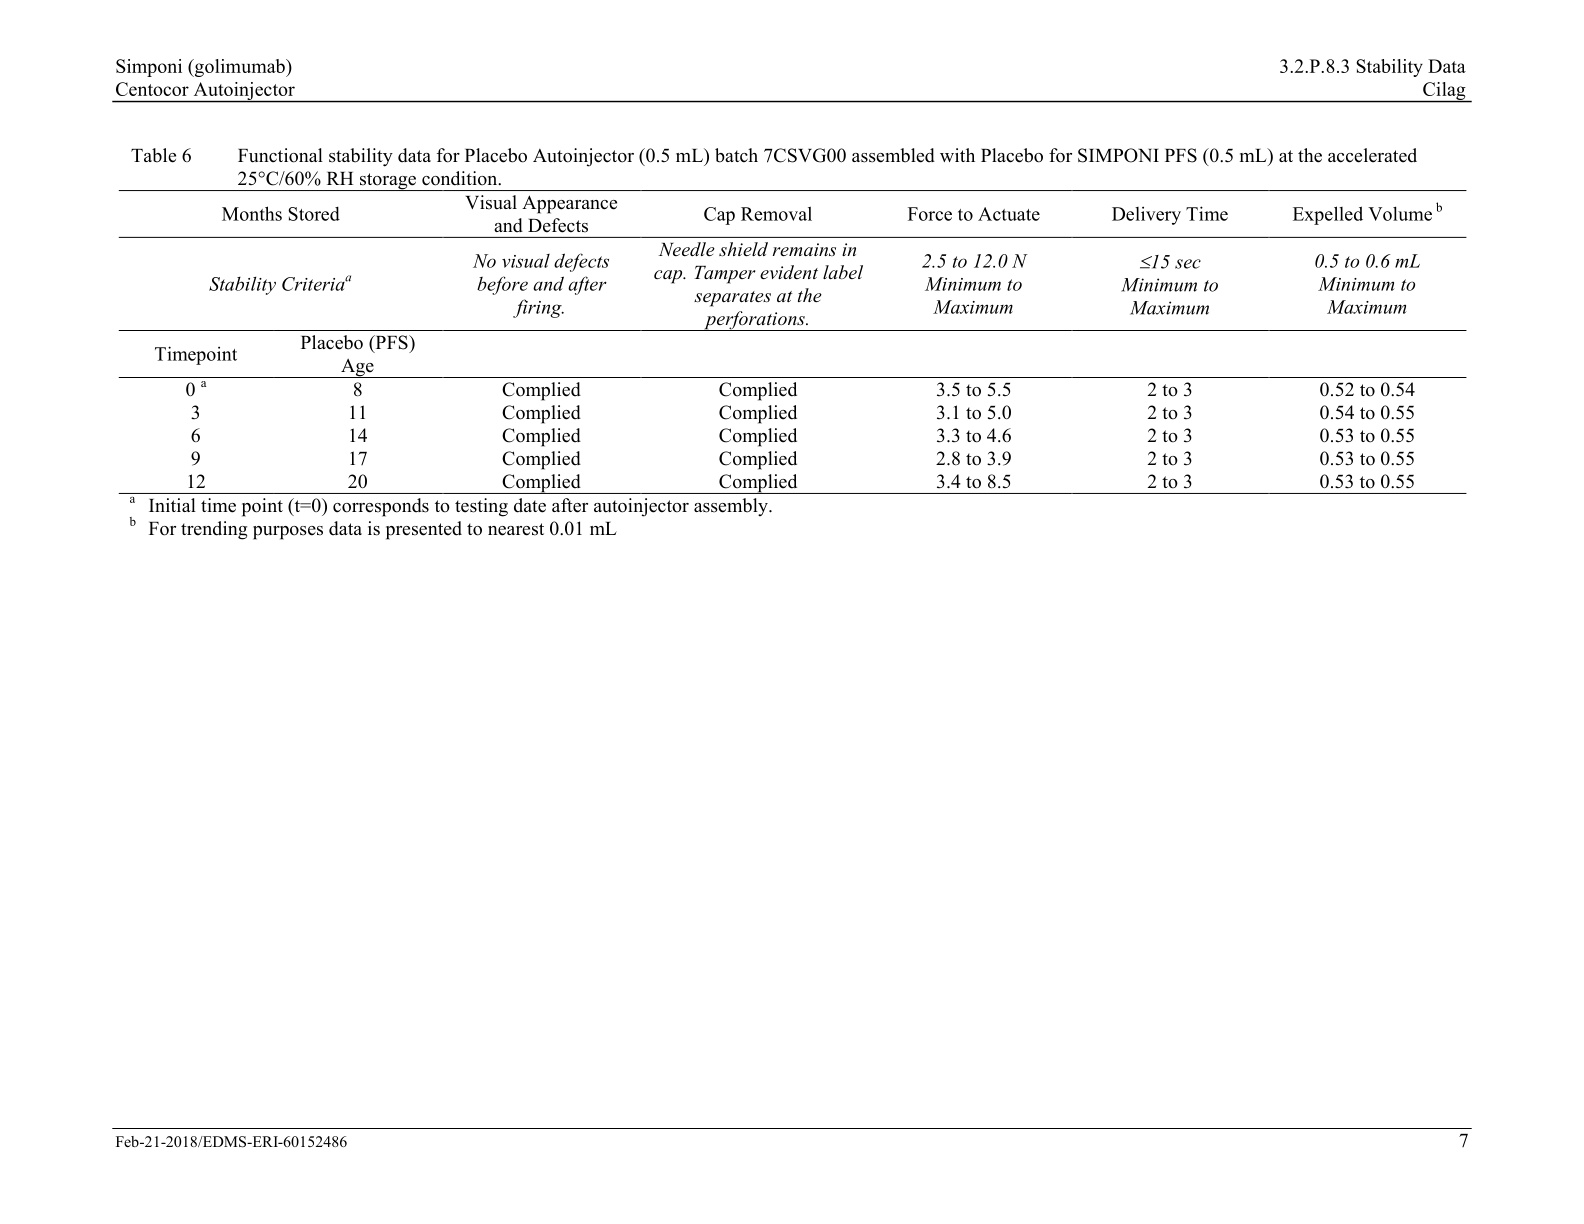partial_lined: (118, 189, 1467, 495)
